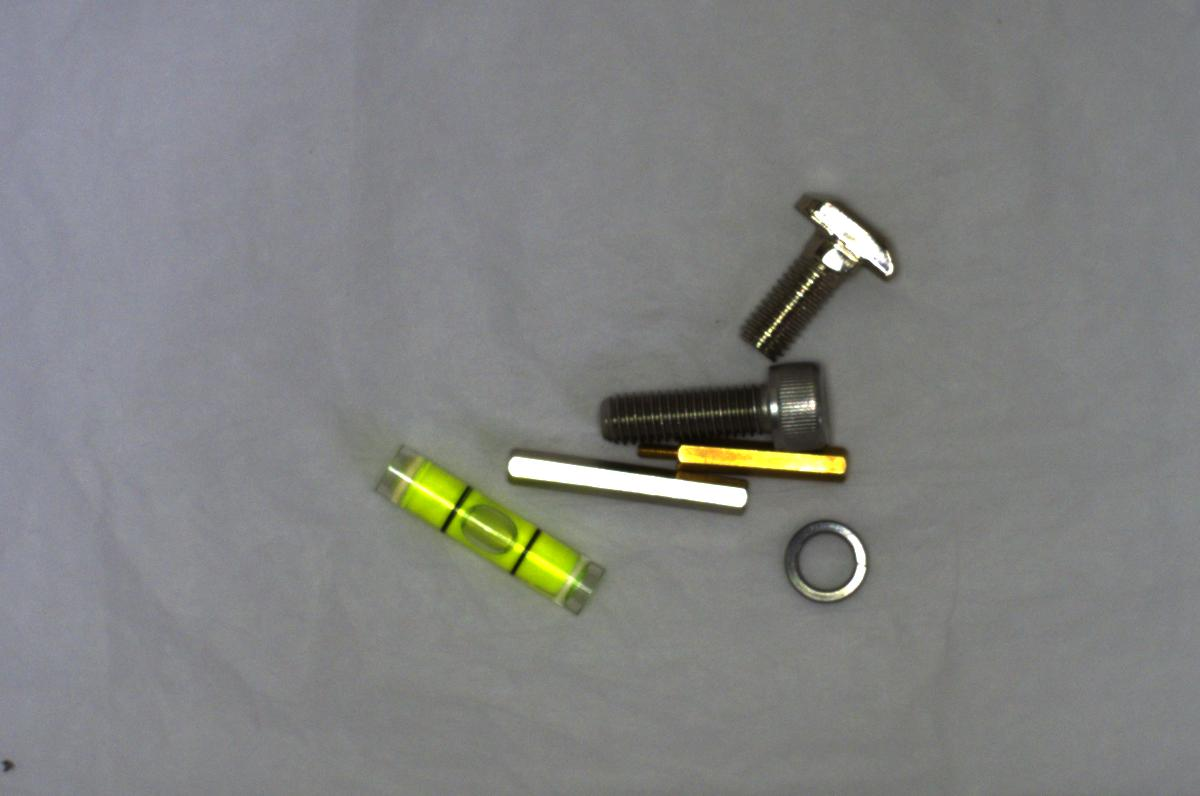Double hexagonal column: (499, 439, 752, 518)
Hexagon pillar: (627, 438, 857, 485)
Hexagon screw: (593, 343, 833, 447)
Horizontal bubble: (370, 435, 612, 621)
Spring washer: (775, 513, 874, 610)
T-shaped screw: (708, 189, 905, 366)
